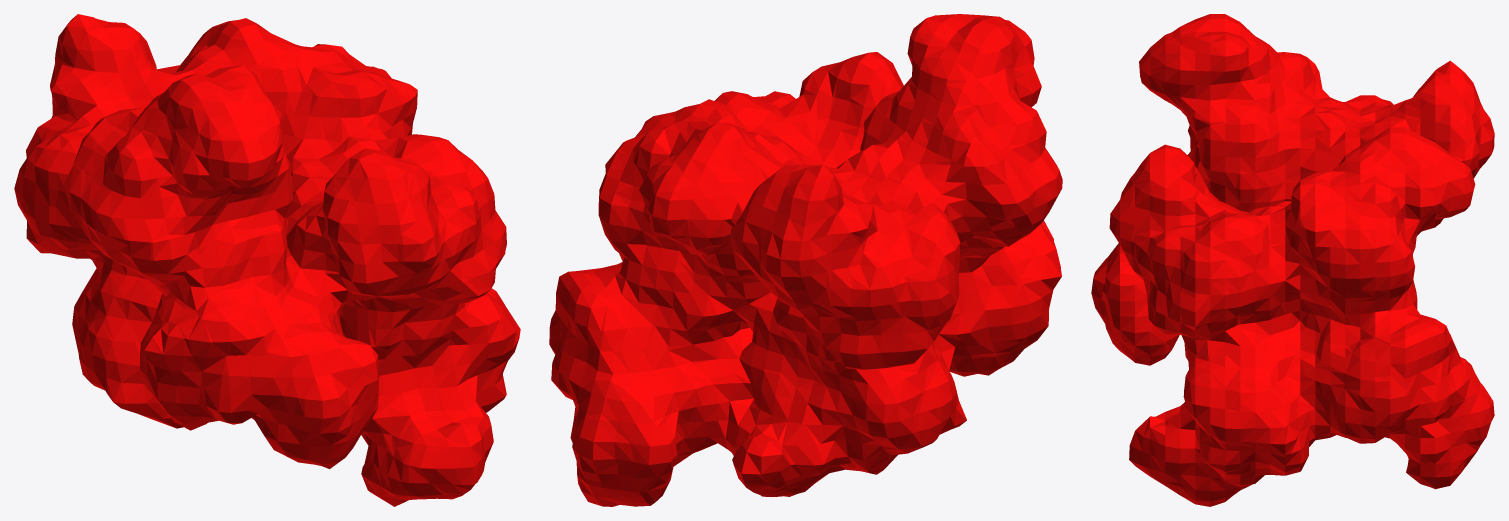
File: gpr_coarse.dae
3 renders of one model, left to right at view 1: azimuth 30°, elevation 25°; view 2: azimuth 150°, elevation 25°; view 3: azimuth 270°, elevation 25°, orthographic. The views are drawn at different scales.
Visible parts, largest first — view 1: gpr; view 2: gpr; view 3: gpr.
Boxes of the visible parts, left/top/right/bottom form: gpr: left=14, top=14, right=520, bottom=506; gpr: left=549, top=14, right=1062, bottom=506; gpr: left=1091, top=14, right=1494, bottom=506.
Size of the model in its own units: 114 by 123 by 114.
